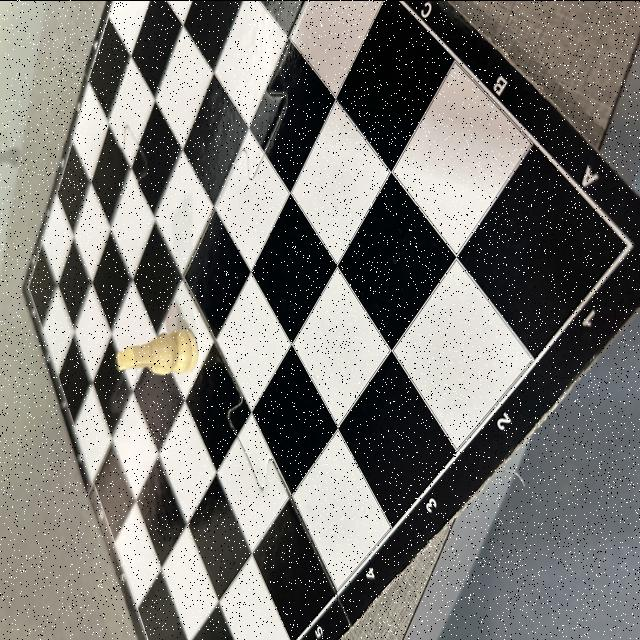White-Knight: (116, 327, 198, 374)
